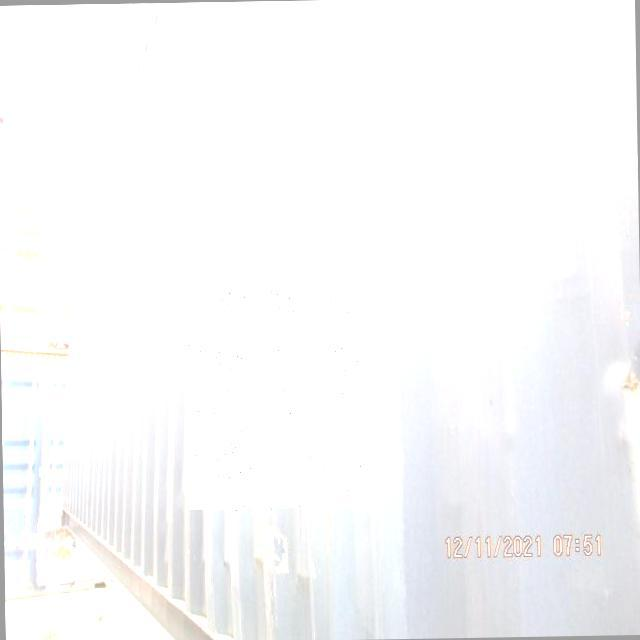Dent: (183, 289, 382, 512)
